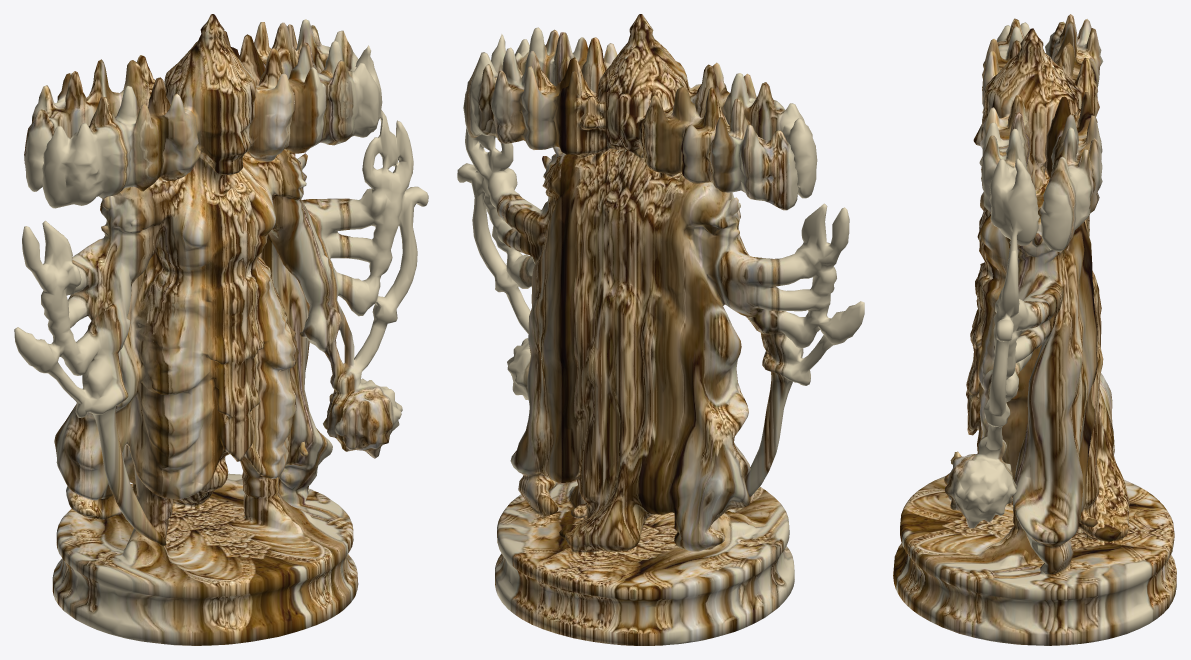
Rendered from raja.glb.
3 views of the same model, side by side, from view 1: azimuth 30°, elevation 25°; view 2: azimuth 150°, elevation 25°; view 3: azimuth 270°, elevation 25° (orthographic). The views are drawn at different scales.
Visible parts, largest first — view 1: geometry_0; view 2: geometry_0; view 3: geometry_0.
Boxes of the visible parts, x1,y1,x2,y2 form: geometry_0: (14,14,428,645); geometry_0: (457,14,864,645); geometry_0: (893,14,1176,645).
Bounding box in the file's own units: 1.47 × 1.98 × 0.9055.
Materials: 1 (1 with a texture image).
